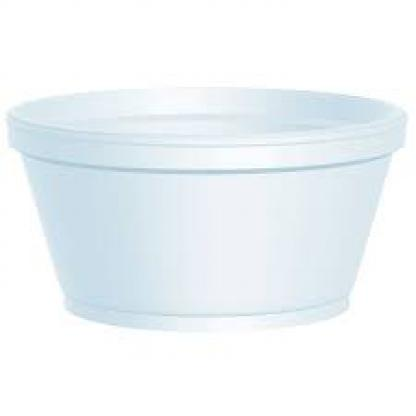paper: (4, 85, 405, 324)
